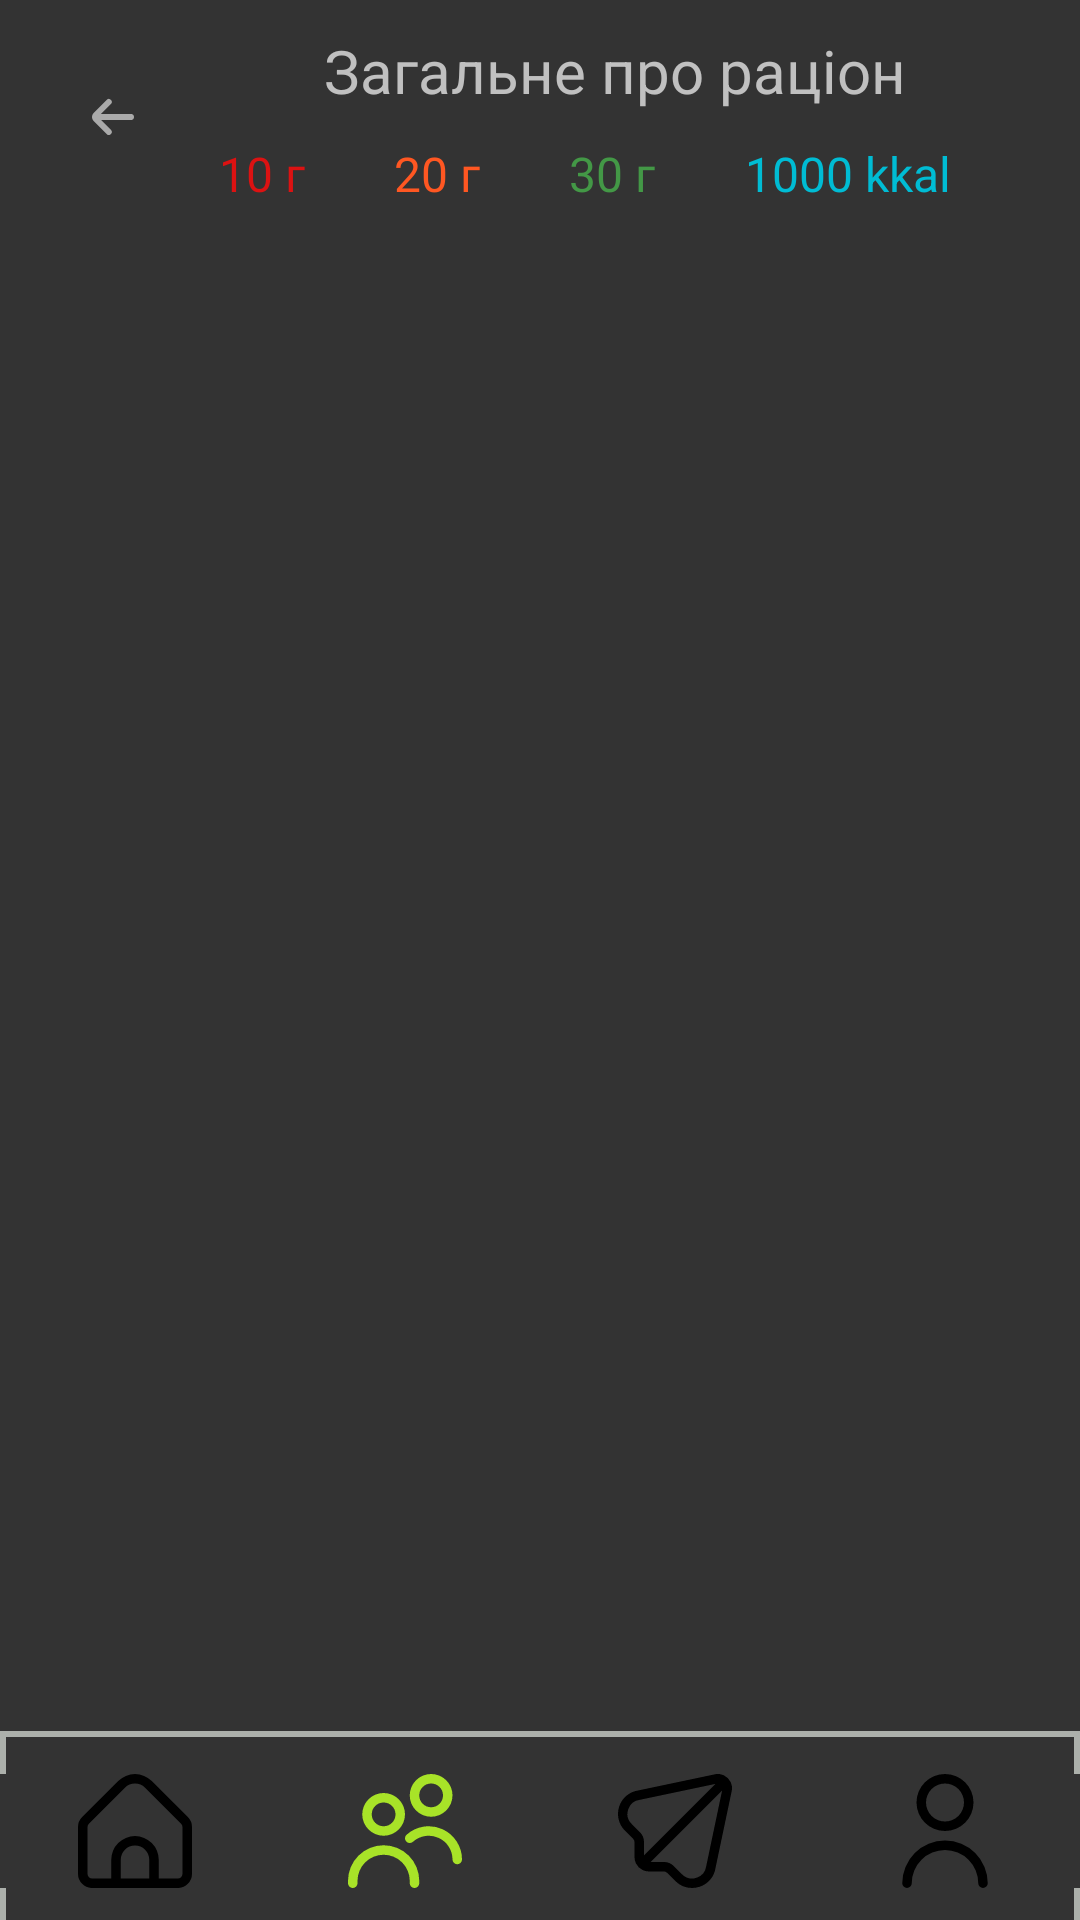

Icon click points for this 1080x1920 phone screenshot, format point (x, y):
back buttom: point (113, 117)
chats: point (675, 1831)
free font home: point (135, 1831)
user: point (945, 1831)
users font select: point (405, 1831)
